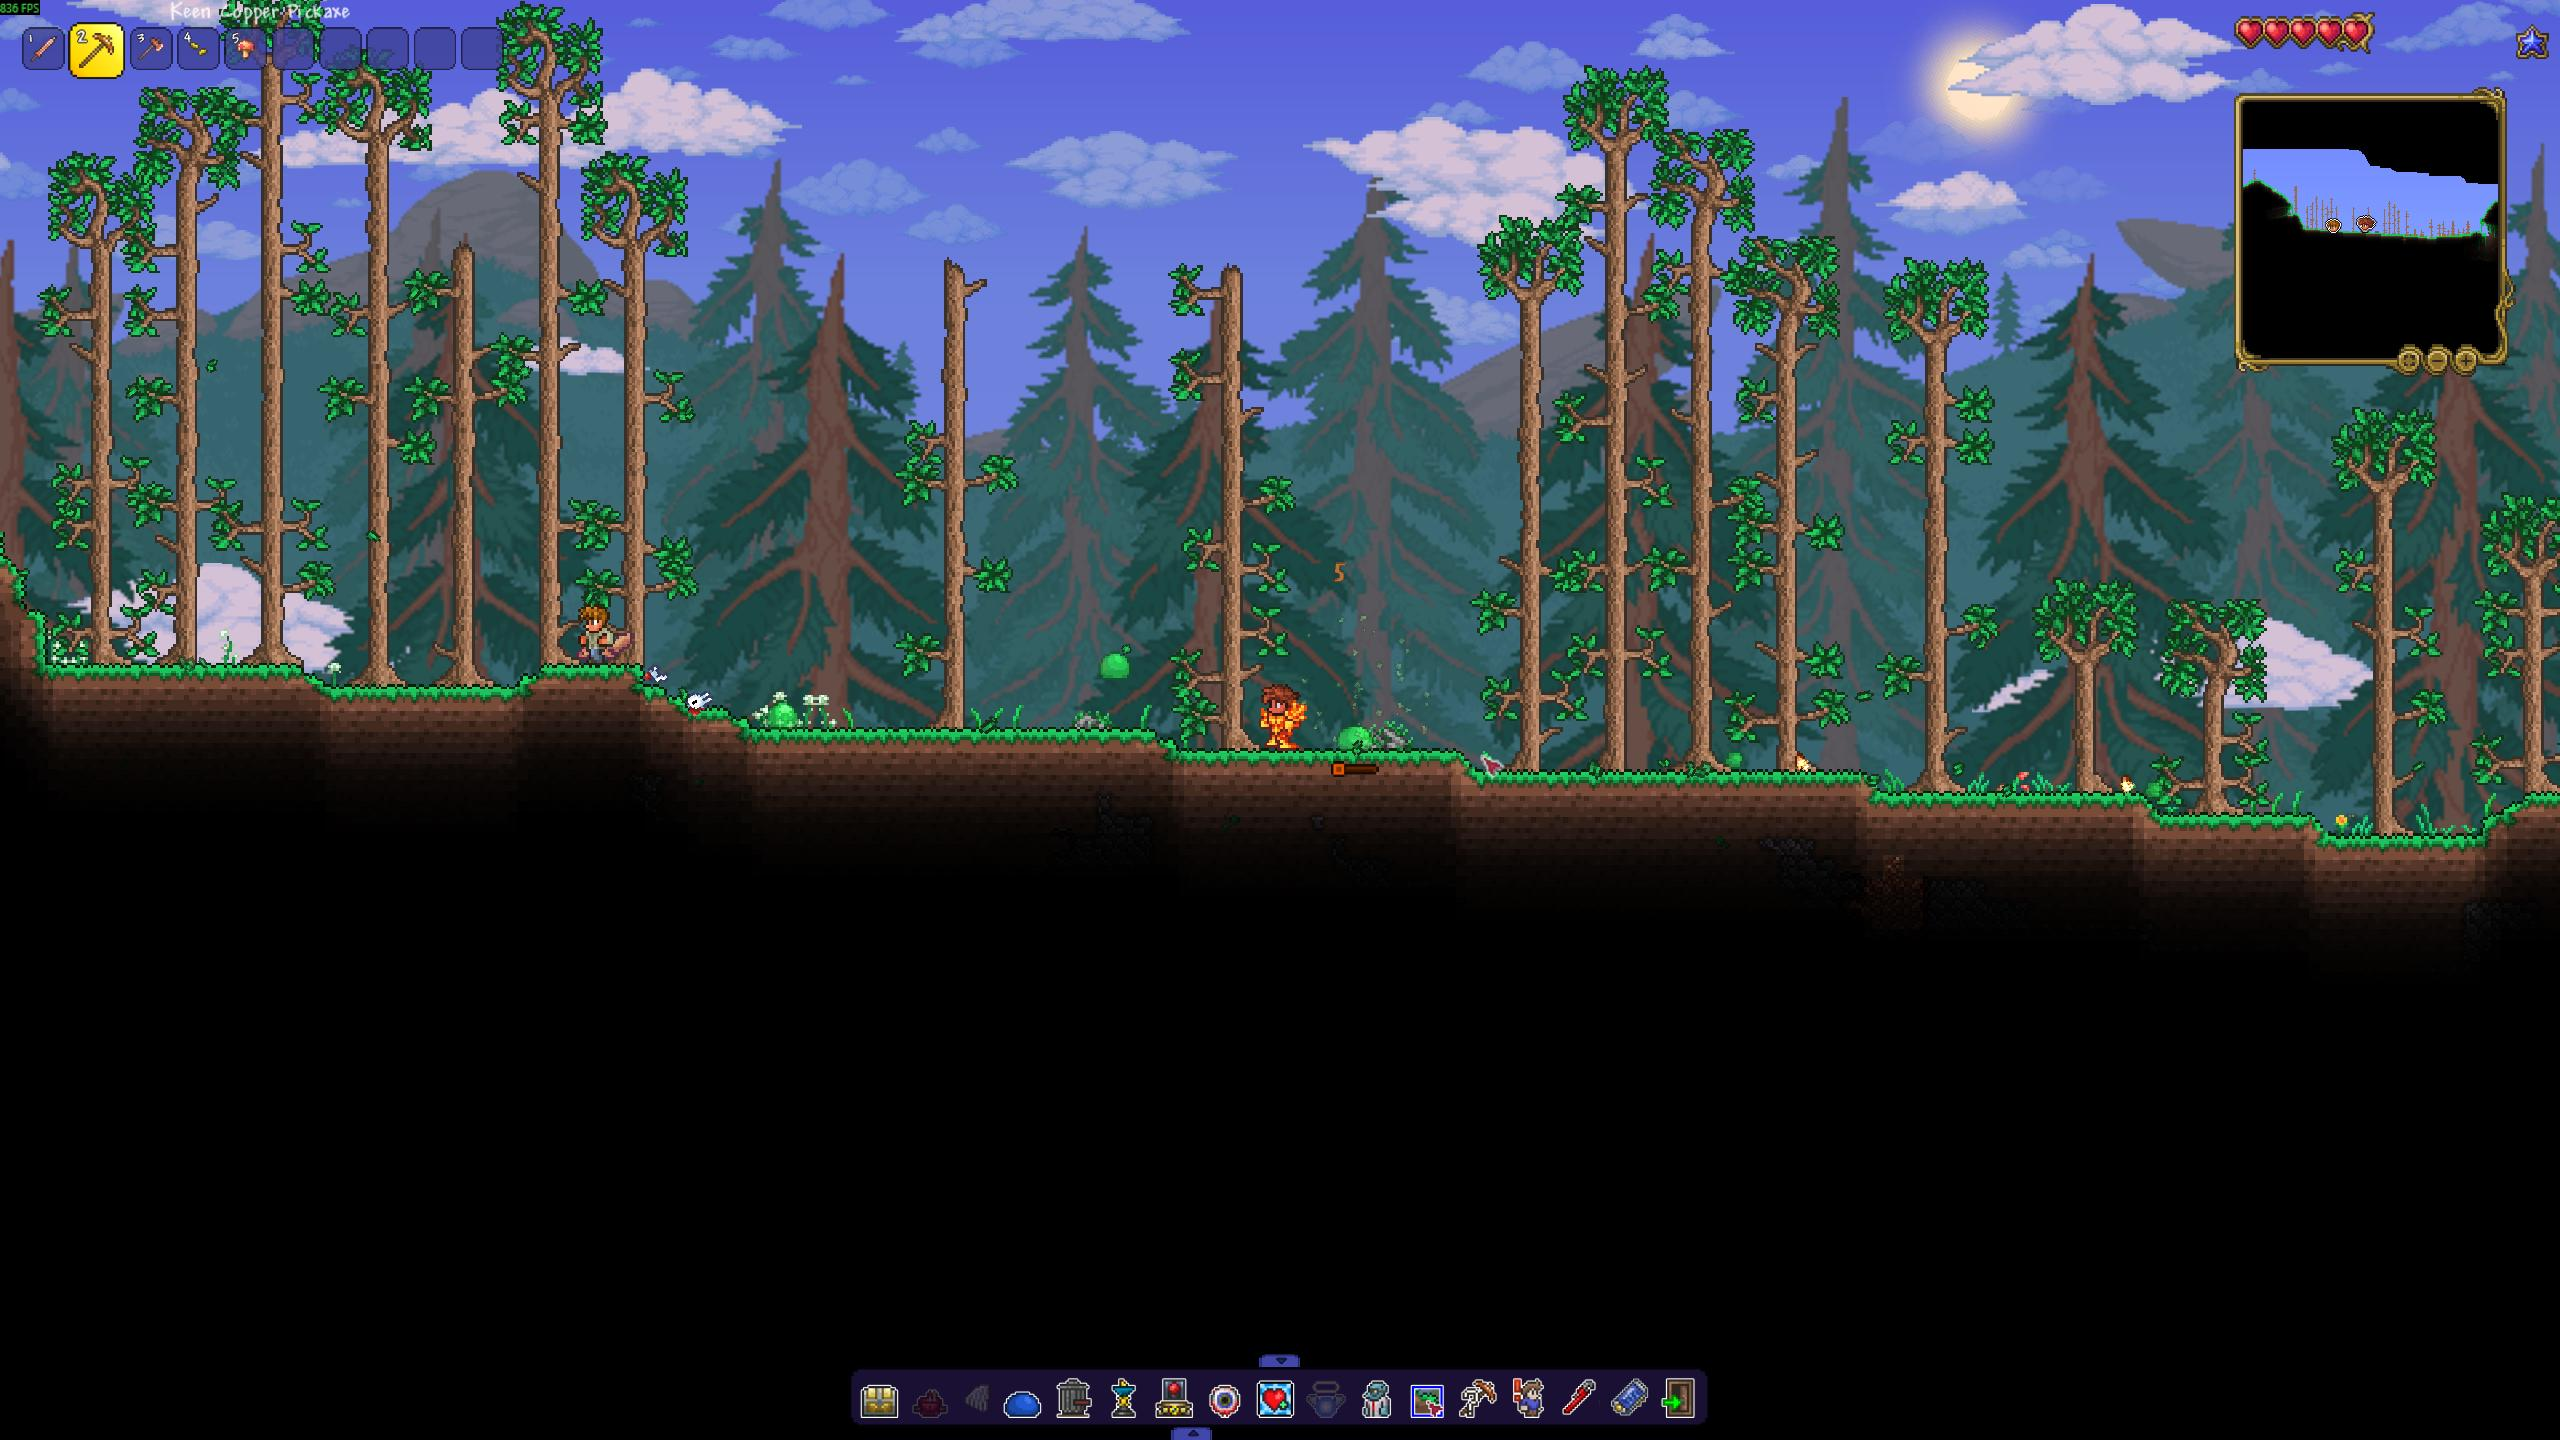Green Slime: (1333, 723, 1377, 751), (1099, 651, 1132, 680), (765, 702, 796, 730)
